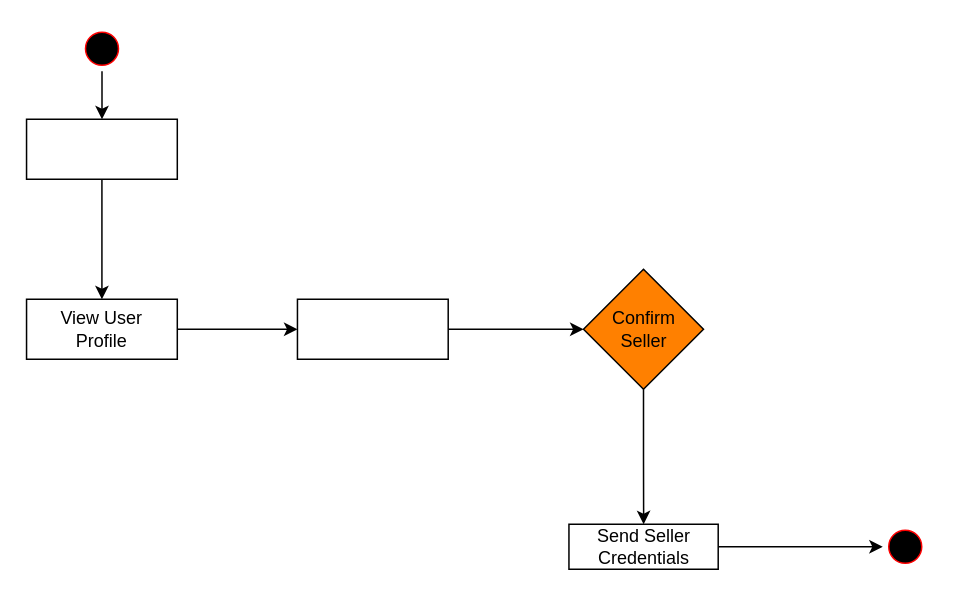
Some shapes in this 954 by 596 pixel diagram are drawn without their labels. Each missing label, with the centre of its shape:
Give Seller Privileges: (372,328)
View Seller Application: (101,148)
